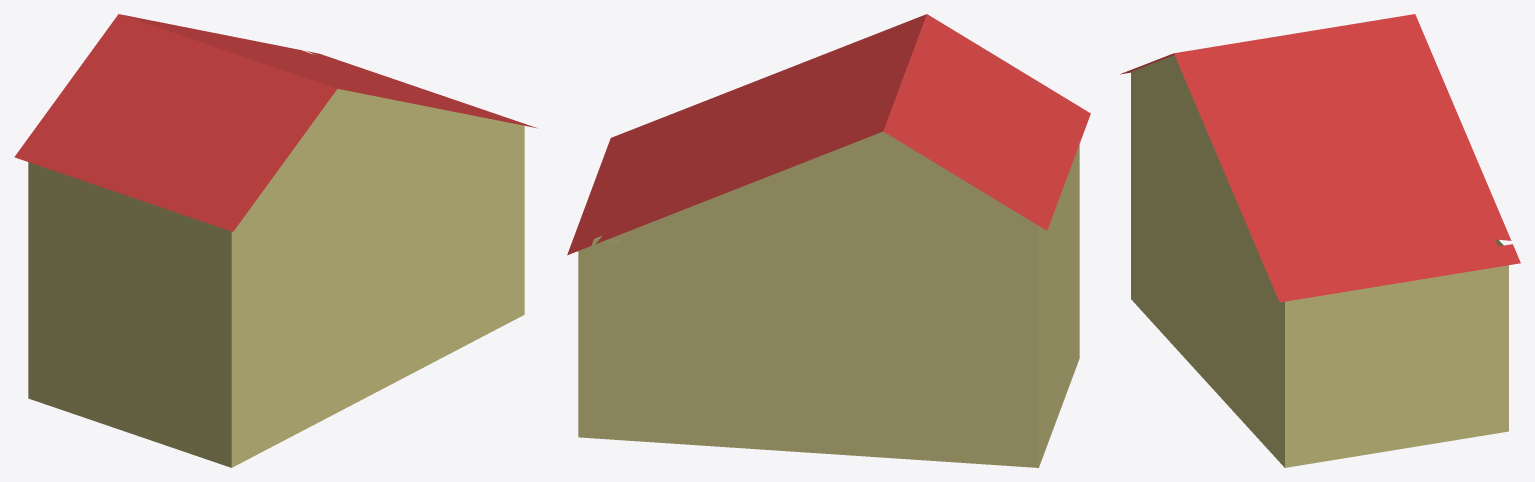
3 views of the same model, side by side, from view 1: azimuth 30°, elevation 25°; view 2: azimuth 150°, elevation 25°; view 3: azimuth 270°, elevation 25° (orthographic). The views are drawn at different scales.
Bounding box in the file's own units: 13.8 × 10.88 × 9.07.
